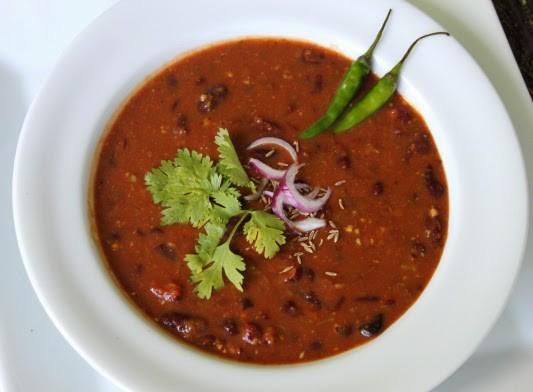RajmaCurry: (89, 39, 444, 361)
